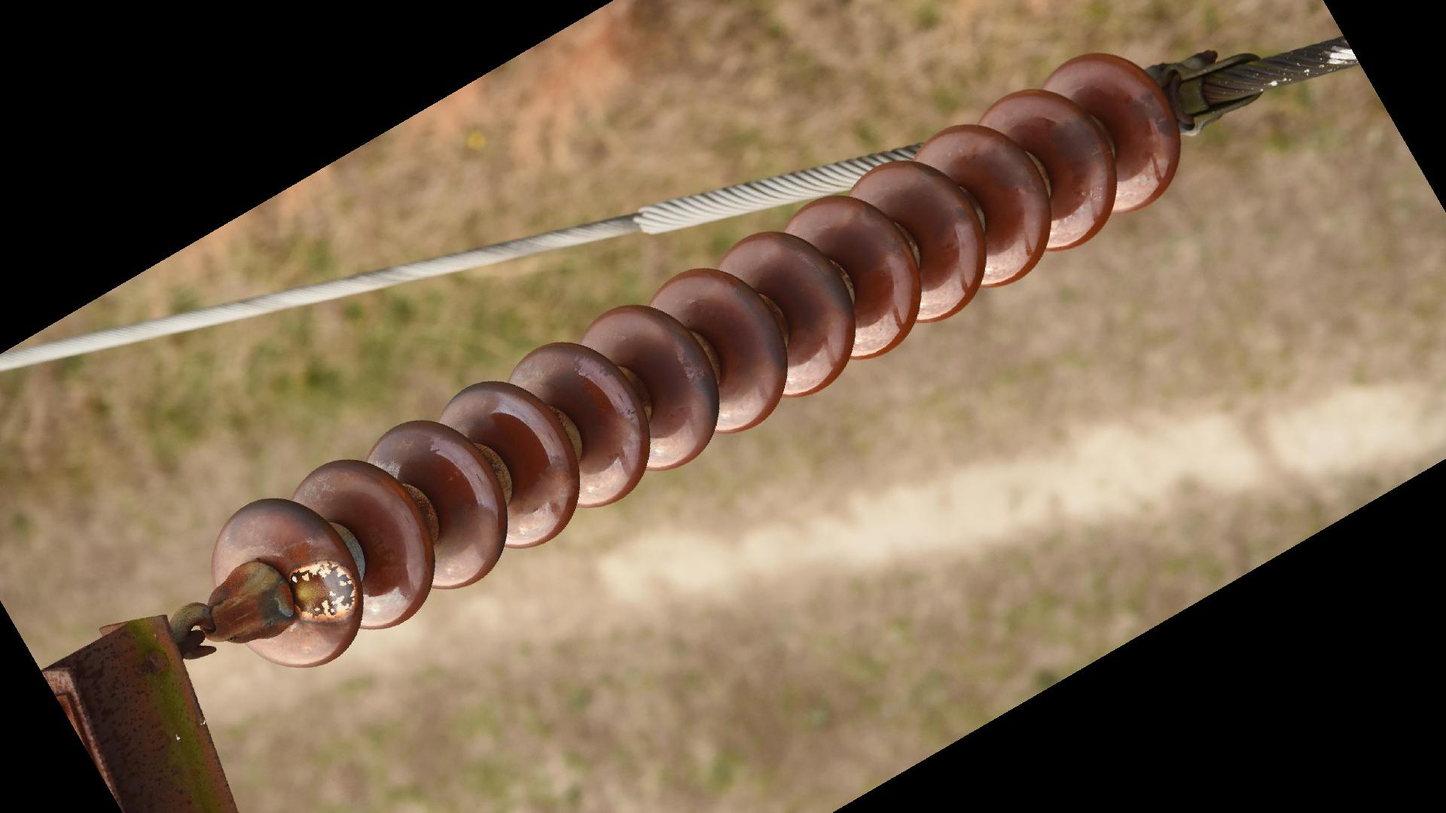insulator: (204, 44, 1191, 676)
insulator_flashover: (285, 559, 363, 624)
